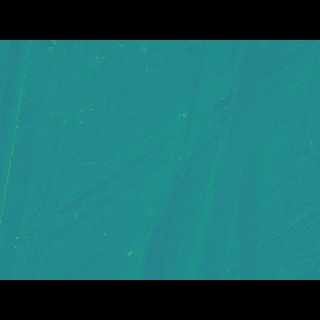Loch: (50, 69, 316, 158)
